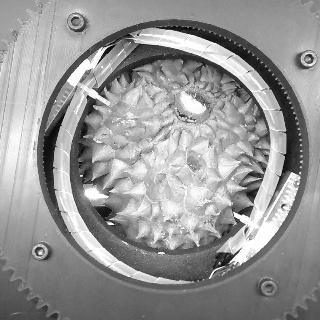base: (174, 90, 218, 129)
end: (179, 90, 207, 115)
